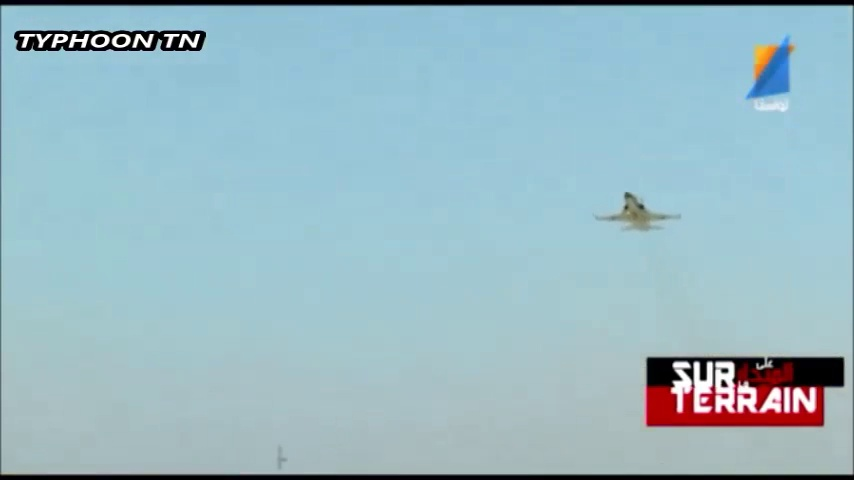Airplane: (592, 191, 683, 235)
